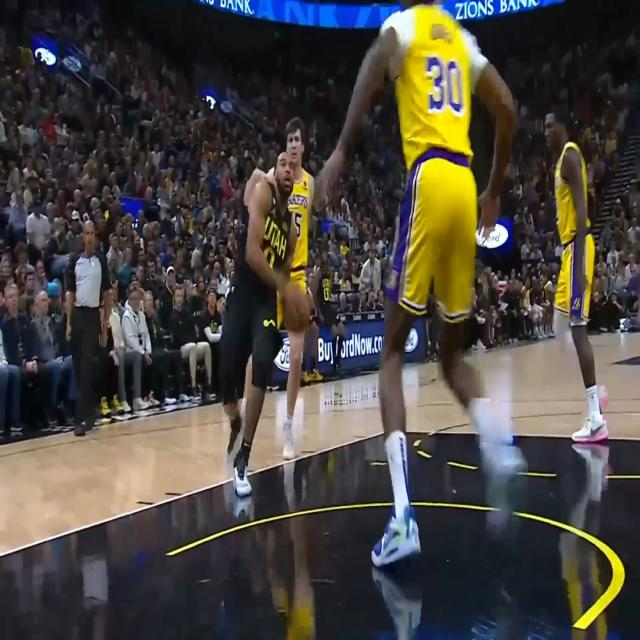Ball: (283, 282, 310, 332)
Player: (319, 0, 516, 565), (238, 118, 318, 448), (222, 149, 296, 500), (545, 96, 610, 442)
Ref: (61, 216, 110, 435)
